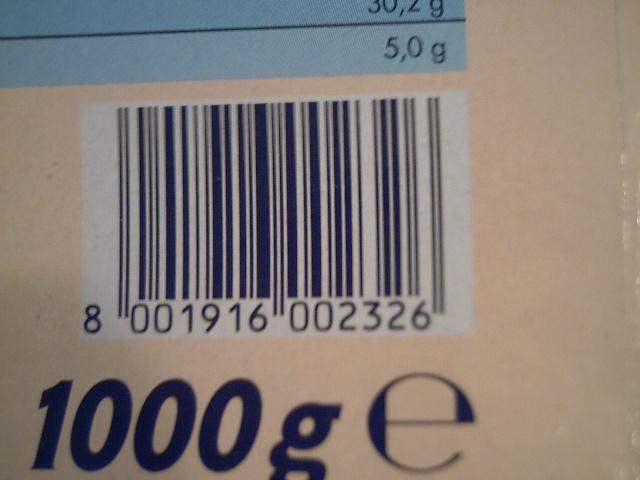Barcode: (80, 90, 473, 338)
